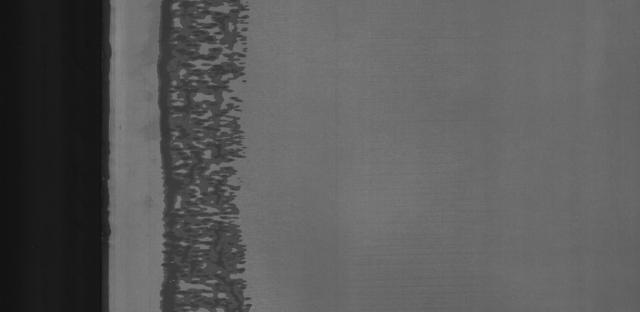oil_spot: (147, 5, 276, 312)
